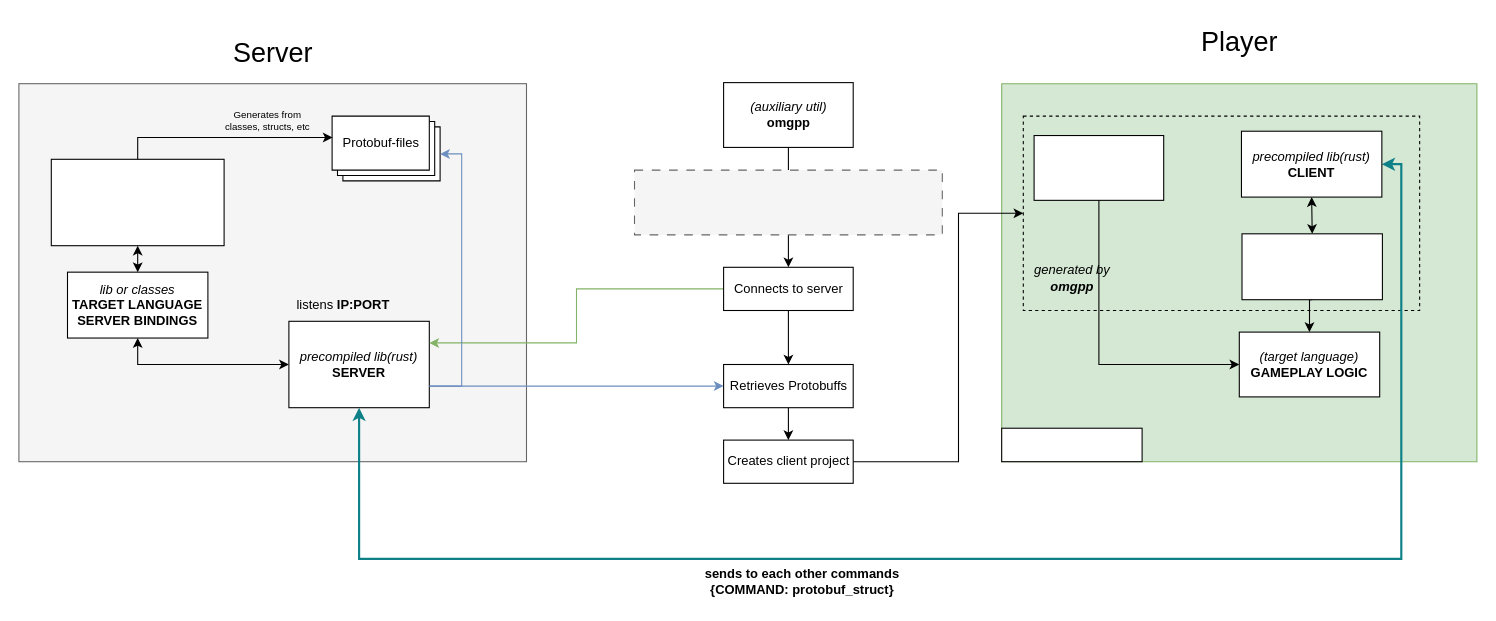
The diagram is 1496 pixels wide and 621 high, and some of its shapes have lost their labels. Here are the shapes that lost their labels. From the top down, the centre of each, then its label:
At point 1098,167: "Compiled Protobuffs (Classes and Structs)".
At point 137,202: "(Java,C#, JS...) GAME LOGIC".
At point 787,202: "omgpp init [Java,C#,JS,Python] ./outdir IP:PORT".
At point 1311,266: "lib or classes TARGET LANGUAGE CLIENT BINDINGS".
At point 1071,444: "./outdir".
